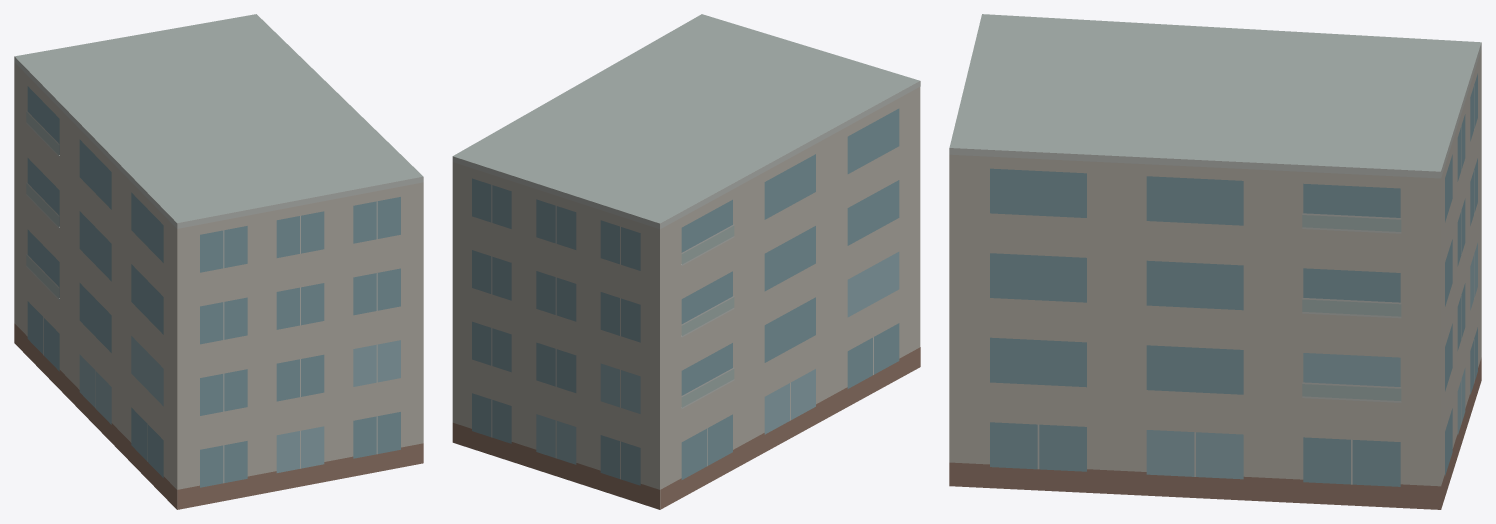
The model's file is survey-upis-32743421.glb.
3 renders of one model, left to right at view 1: azimuth 30°, elevation 25°; view 2: azimuth 150°, elevation 25°; view 3: azimuth 270°, elevation 25°, orthographic. The views are drawn at different scales.
Visible parts, largest first — view 1: survey-upis-32743421.tmp; view 2: survey-upis-32743421.tmp; view 3: survey-upis-32743421.tmp.
Boxes of the visible parts, x1,y1,x2,y2 form: survey-upis-32743421.tmp: (14,14,423,509); survey-upis-32743421.tmp: (452,14,920,509); survey-upis-32743421.tmp: (949,14,1481,509).
Size of the model in its own units: 12.21 by 12.2 by 17.41.
